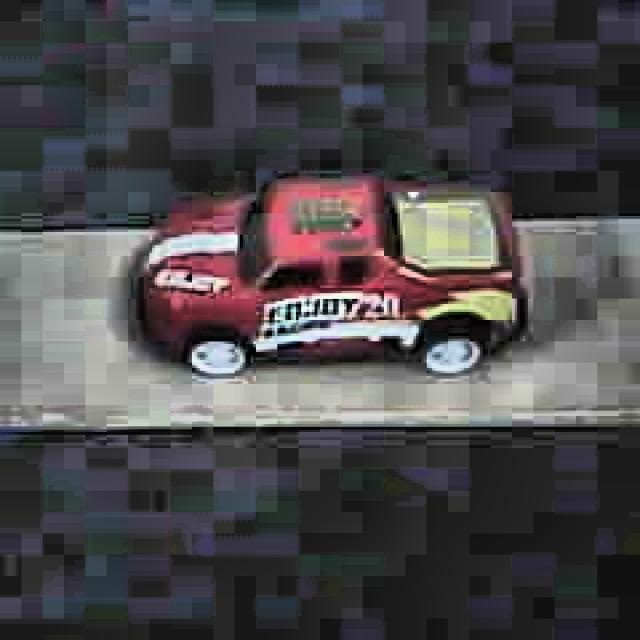car: (132, 172, 530, 380)
